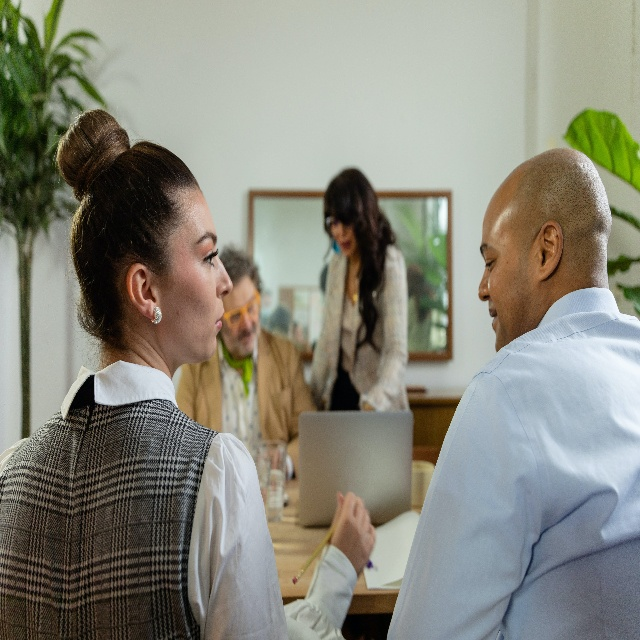Gafas: (221, 285, 260, 329)
Sin_guantes: (330, 487, 376, 576)
